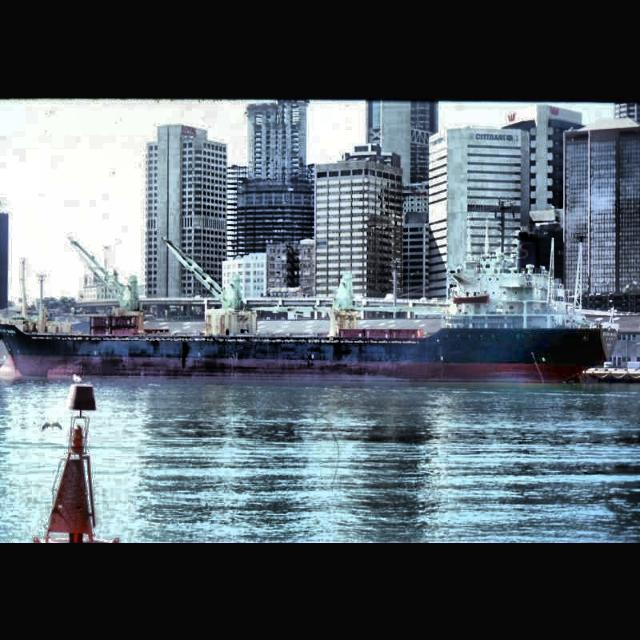bulk_carrier: (0, 232, 620, 384)
